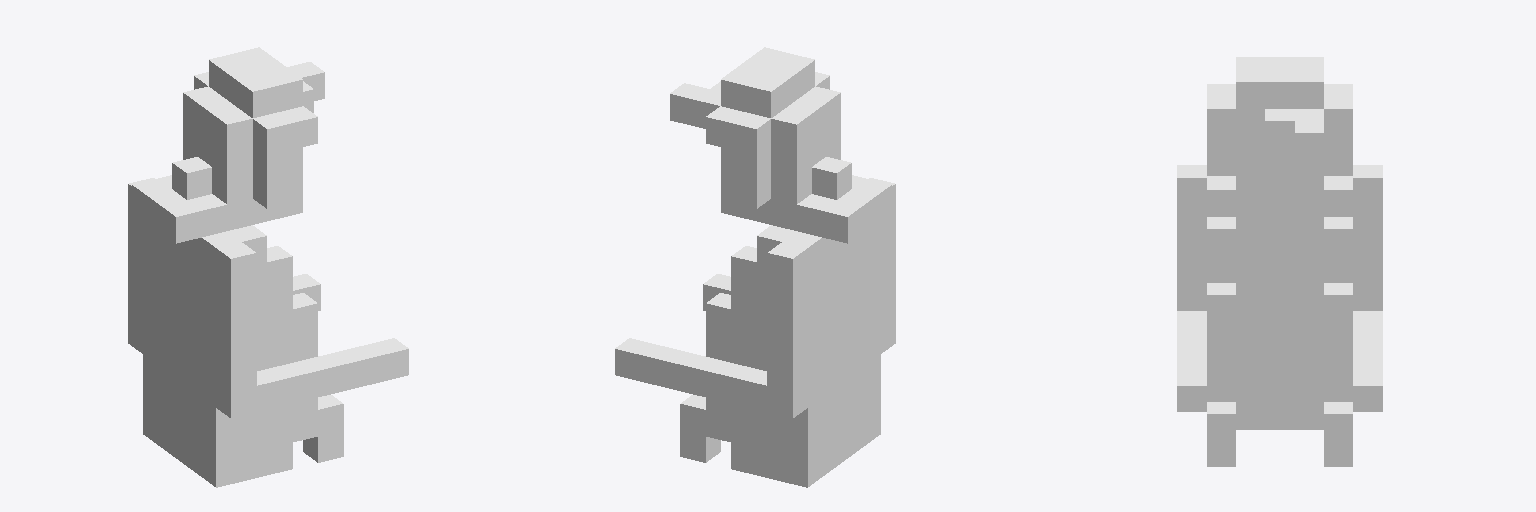
The model's file is fetal-char-crouch-pull.obj.
3 renders of one model, left to right at view 1: azimuth 30°, elevation 25°; view 2: azimuth 150°, elevation 25°; view 3: azimuth 270°, elevation 25°, orthographic.
Visible parts, largest first — view 1: fetal-char-crouch-pull; view 2: fetal-char-crouch-pull; view 3: fetal-char-crouch-pull.
Boxes of the visible parts, box(x1,y1,x2,y2) form: fetal-char-crouch-pull: box(128, 47, 408, 487); fetal-char-crouch-pull: box(615, 47, 895, 487); fetal-char-crouch-pull: box(1177, 57, 1382, 466).
Bounding box in the file's own units: 8 × 14 × 7.